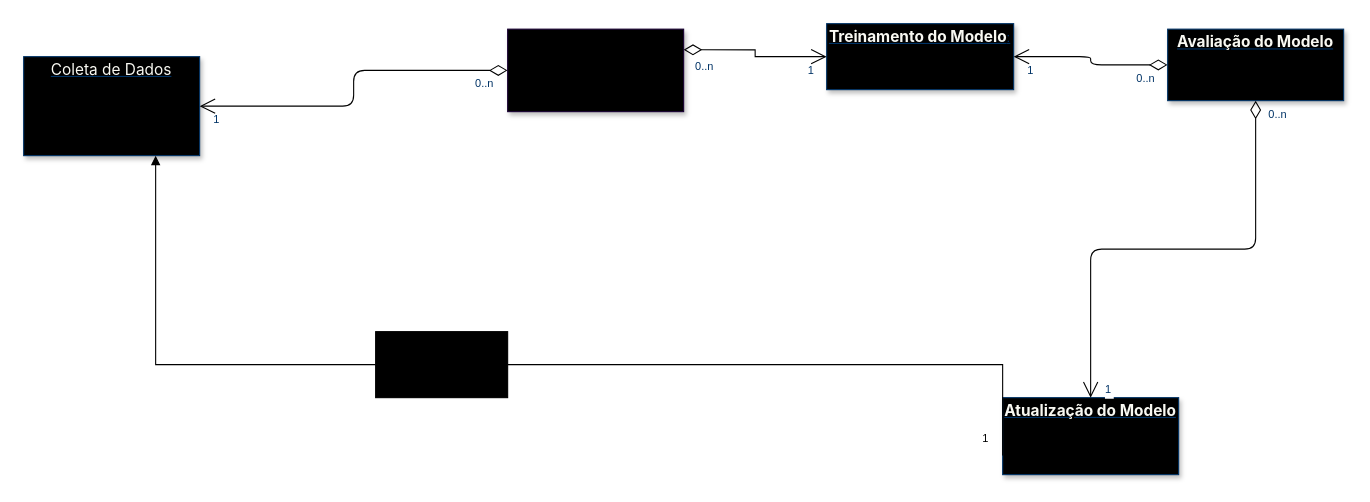
The diagram is 1370 pixels wide and 502 high, and some of its shapes have lost their labels. The shapes that lost their labels are listed below. From the top down, each one's centre as x and y in pixels, then its label:
the point at 596,71: Pré-processamento
the point at 441,364: Implantação do Modelo
